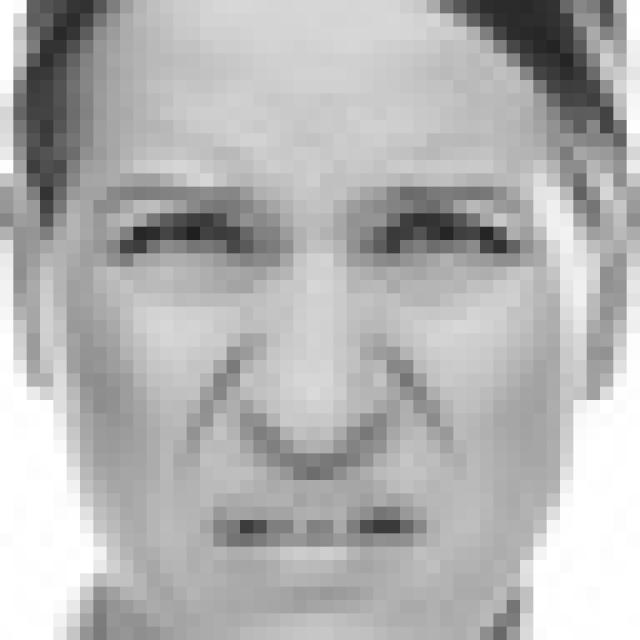disgust: (88, 171, 540, 597)
